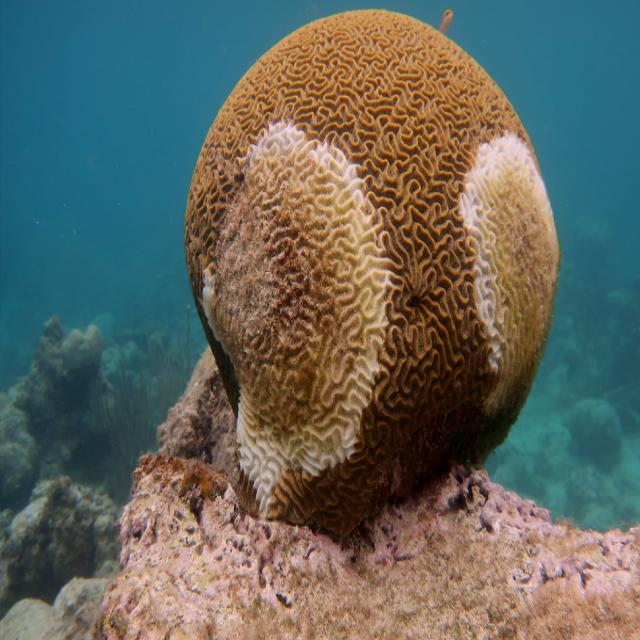Coral: (184, 9, 562, 539)
